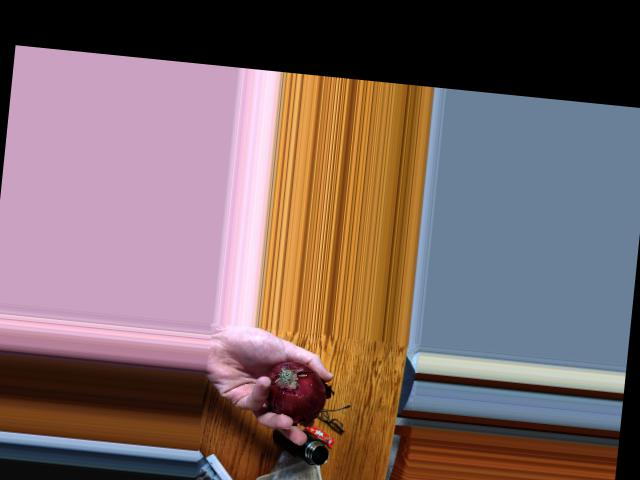onion: (262, 359, 327, 419)
